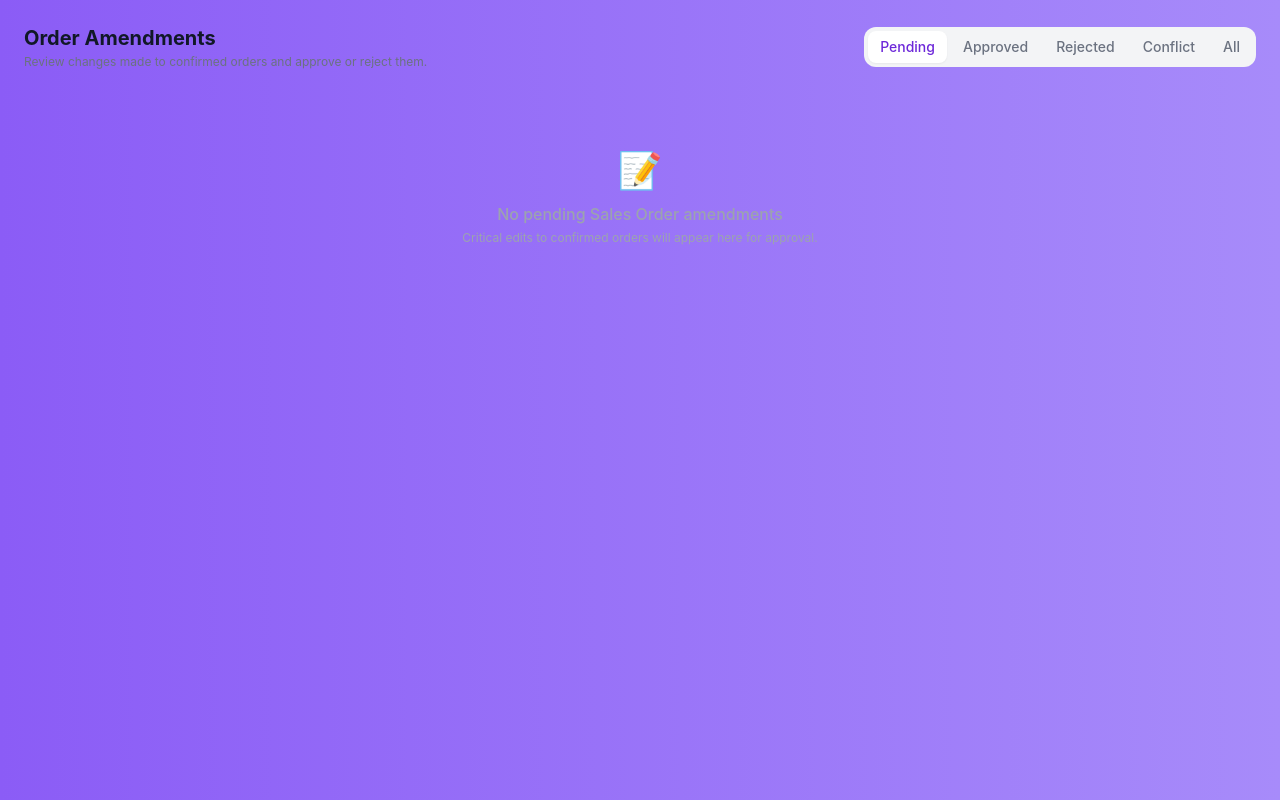
Test: OrderAmendmentsPage — Manager Rebase UI entry points › 14. Supersede is shown only when an approved amendment exists for the SAME Sales Order
Expected: the text "No pending Sales Order amendments" is shown, top-left (497, 204), bottom-right (783, 224)
Click the button "All". click: x=1232, y=47
box: top-left (1211, 31), bottom-right (1252, 63)
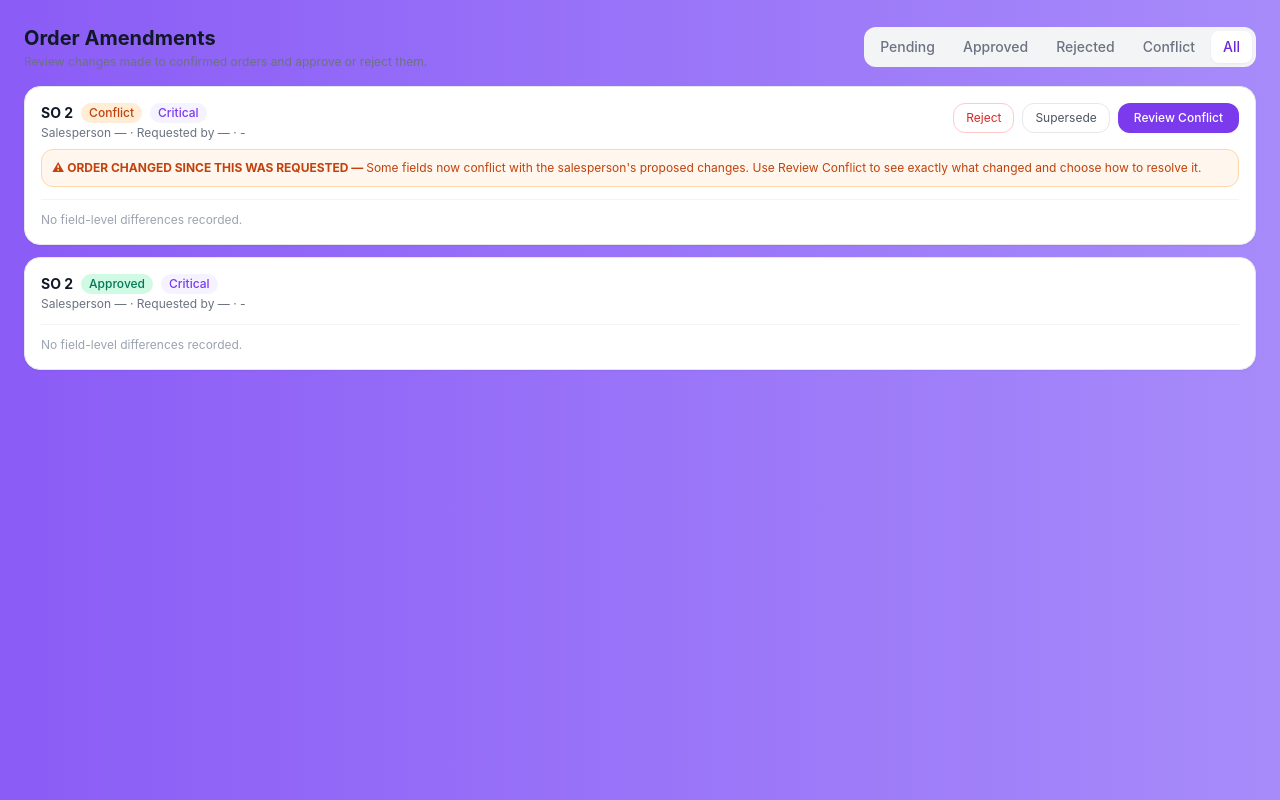
Expected: the button "Review Conflict" is shown, top-left (1118, 103), bottom-right (1239, 133)
Expected: the button "Supersede" is shown, top-left (1022, 103), bottom-right (1110, 133)
